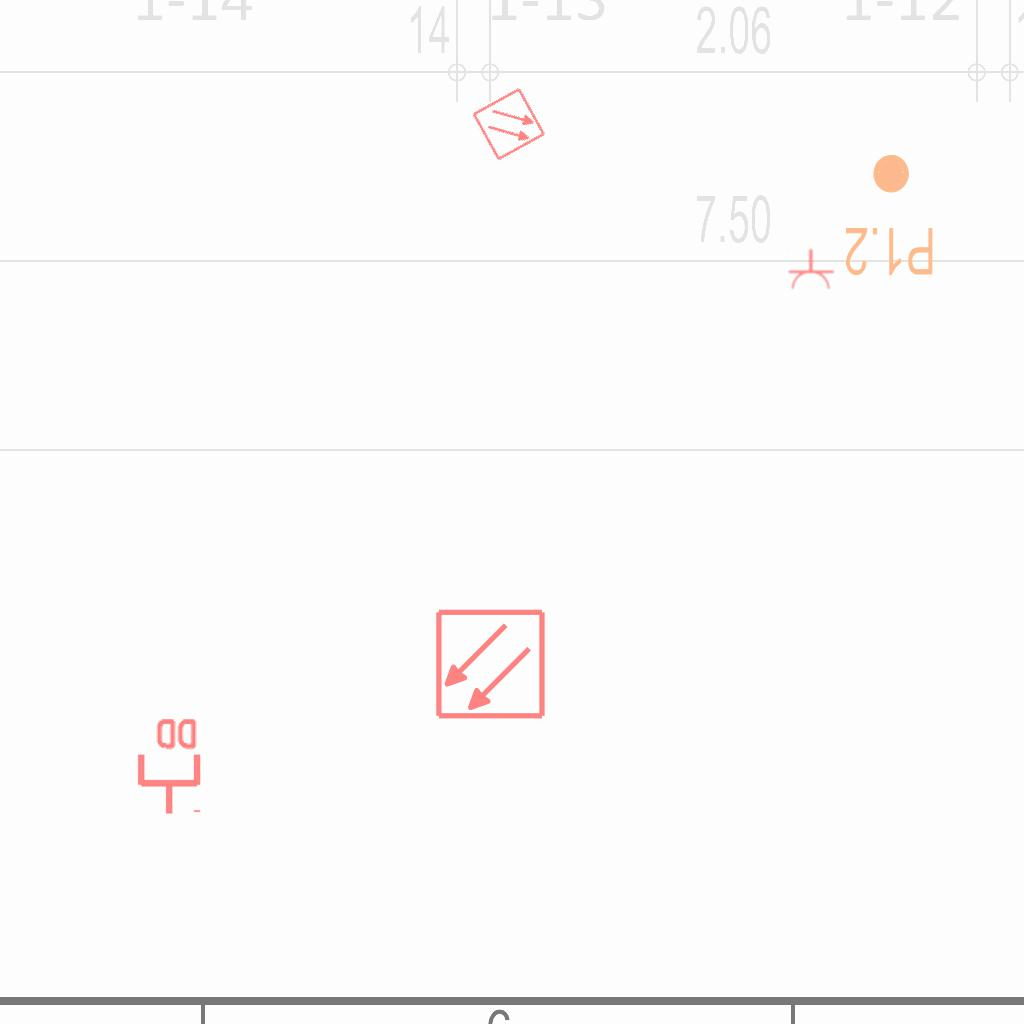Datenanschluss_zweifach: (133, 714, 202, 817)
Downlight_LED_Einbauleuchten_Flur: (843, 151, 936, 279)
RMO_Rauchmelder_optischer: (434, 608, 547, 721), (470, 85, 548, 163)
Schukosteckdose_einfach: (785, 248, 835, 291)
